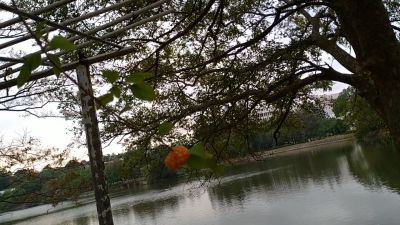eggs: (164, 143, 192, 172)
